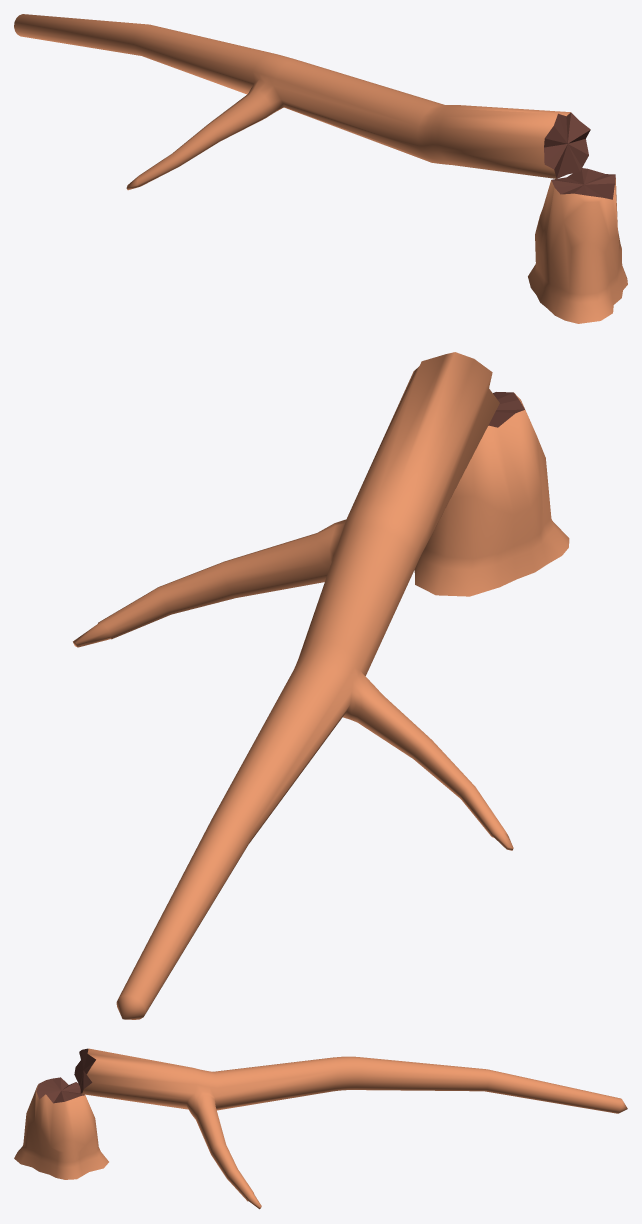
The model's file is fallenTree.fbx.
3 views of the same model, one above another, from view 1: azimuth 30°, elevation 25°; view 2: azimuth 150°, elevation 25°; view 3: azimuth 270°, elevation 25° (orthographic). The views are drawn at different scales.
Parts seen in each view (by area): view 1: fallenTree_trunk, fallenTree_stump; view 2: fallenTree_trunk, fallenTree_stump; view 3: fallenTree_trunk, fallenTree_stump.
Part boxes in pixels (x1,y1,x2,y2): fallenTree_trunk: [14, 14, 590, 190]; fallenTree_stump: [528, 168, 627, 323]; fallenTree_trunk: [73, 352, 513, 1019]; fallenTree_stump: [414, 392, 569, 596]; fallenTree_trunk: [74, 1048, 627, 1209]; fallenTree_stump: [14, 1077, 108, 1179].
Bounding box in the file's own units: 237 × 469 × 96.91.
